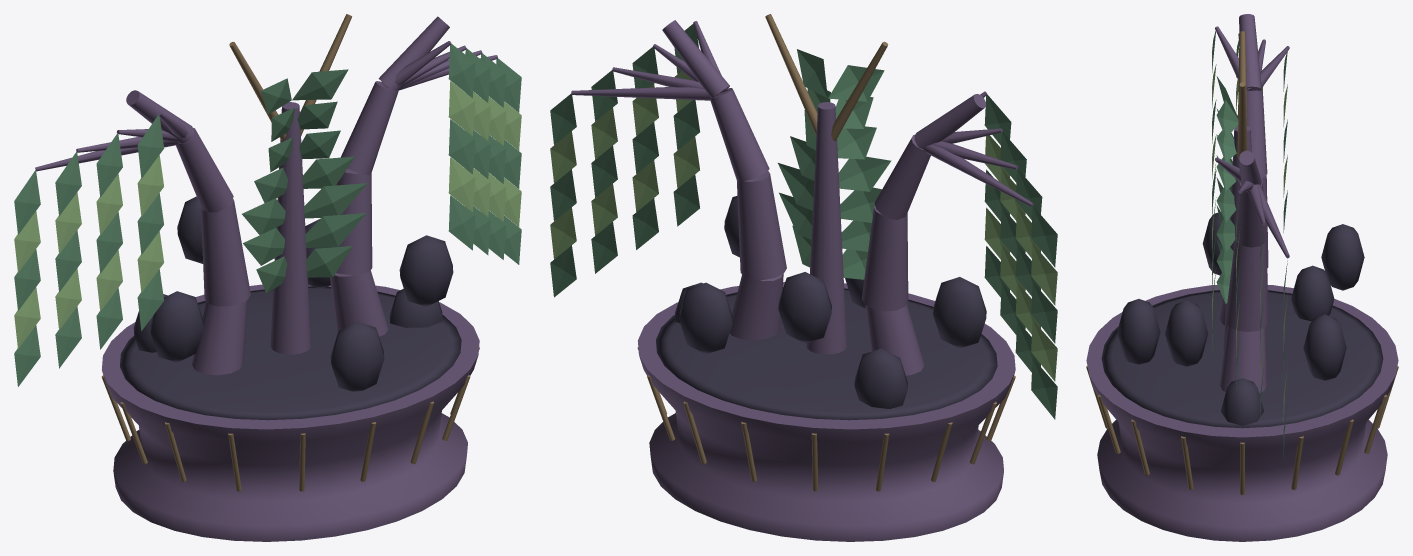
The model's file is homecoming_grove.glb.
3 views of the same model, side by side, from view 1: azimuth 30°, elevation 25°; view 2: azimuth 150°, elevation 25°; view 3: azimuth 270°, elevation 25° (orthographic). The views are drawn at different scales.
Visible parts, largest first — view 1: grove_corrupted, grove_restored; view 2: grove_corrupted, grove_restored; view 3: grove_corrupted, grove_restored.
Boxes of the visible parts, x1,y1,x2,y2 form: grove_corrupted: (35,14,497,541); grove_restored: (14,43,521,386); grove_corrupted: (571,14,1033,541); grove_restored: (550,23,1057,419); grove_corrupted: (1086,14,1398,541); grove_restored: (1212,31,1287,457).
Size of the model in its own units: 2.51 by 2.11 by 1.44.
